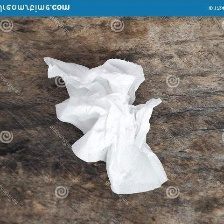tissue: (39, 53, 172, 198)
